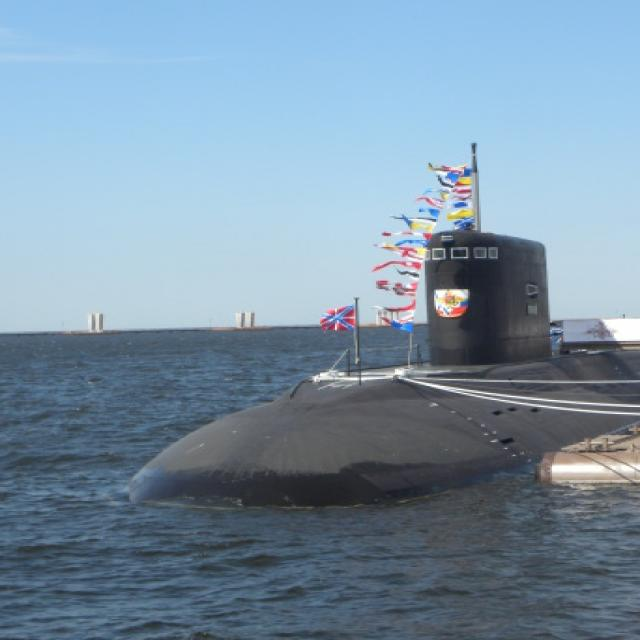submarine: (132, 147, 640, 503)
